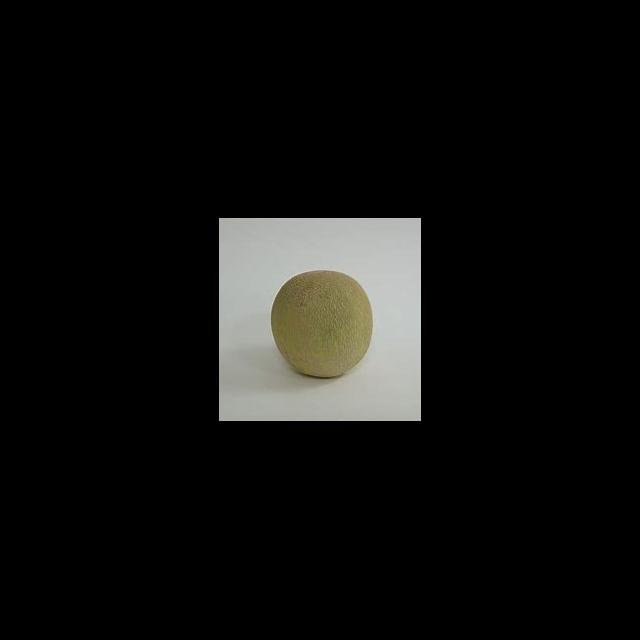Hami Melon: (271, 271, 373, 380)
